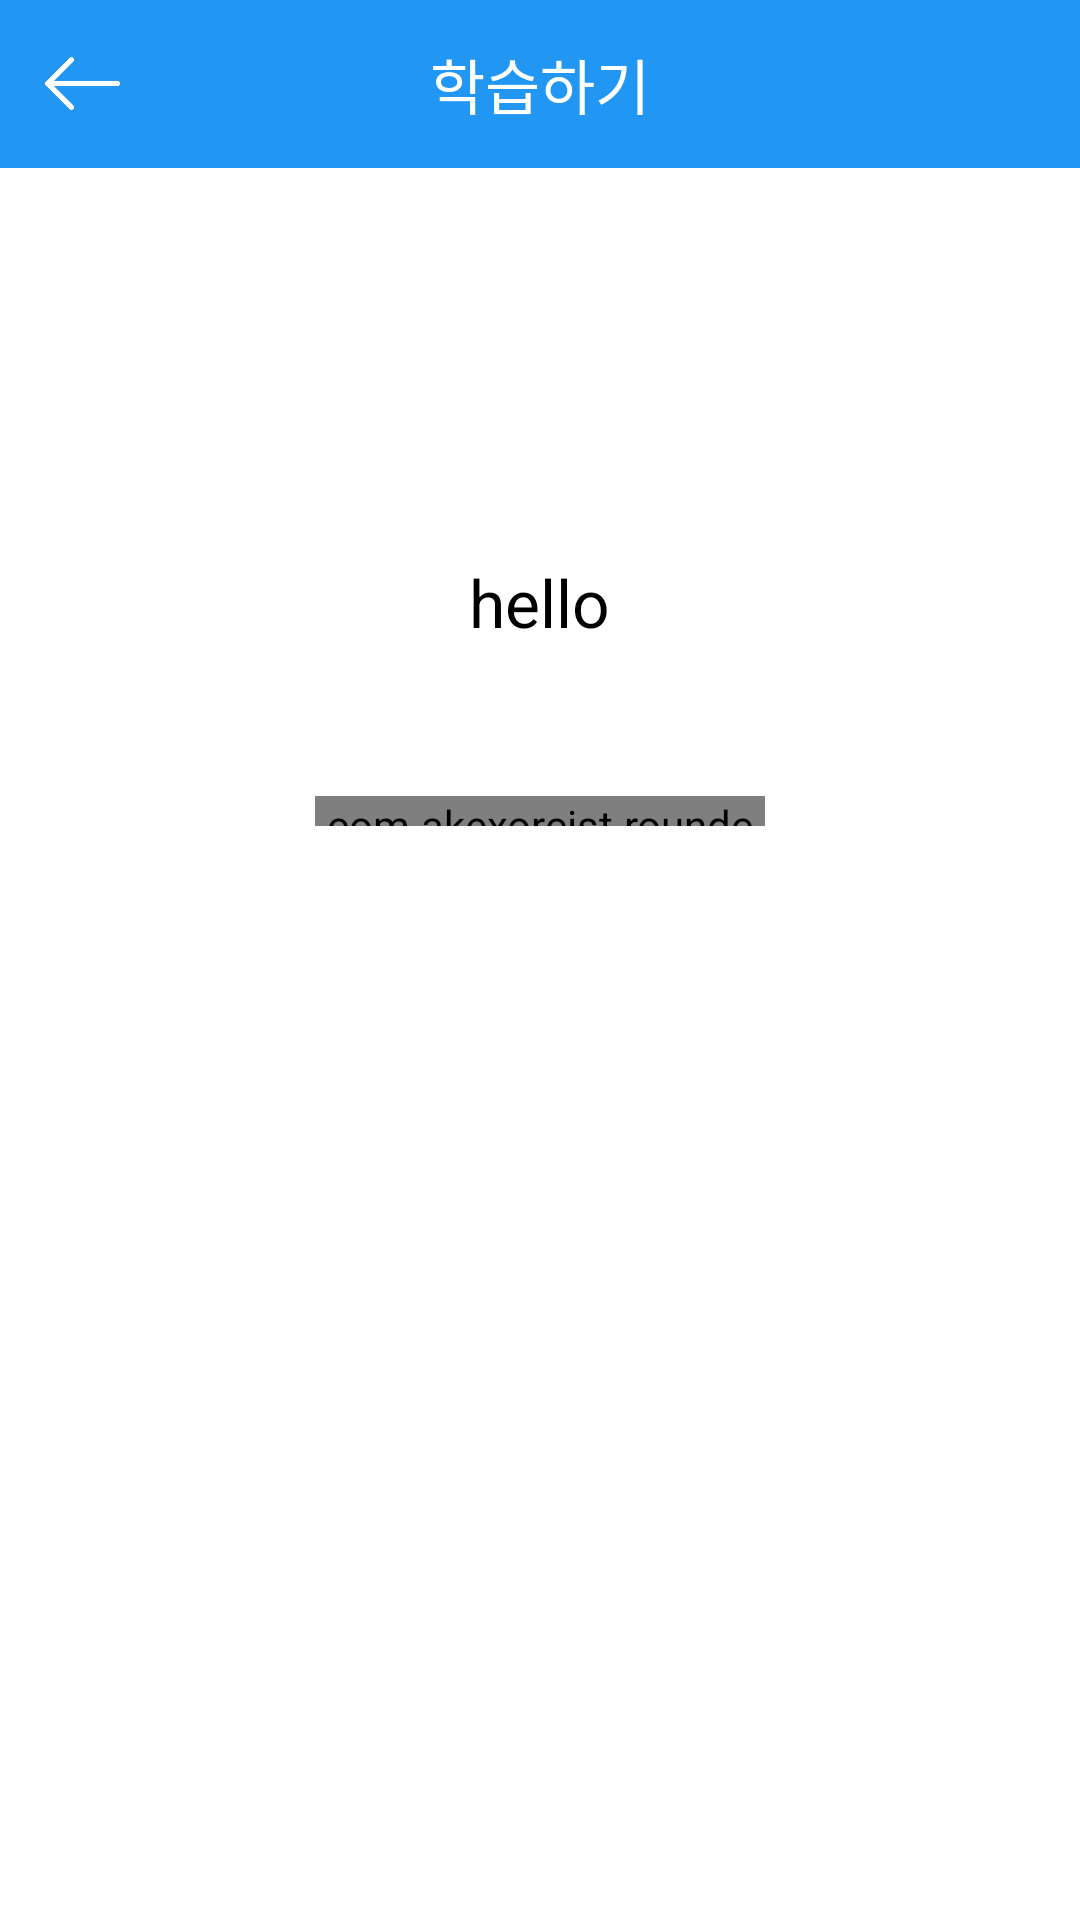

Icons on this 1080x1920 Android screen, each with the point to tap as point (x, y):
arrow: point (82, 83)
